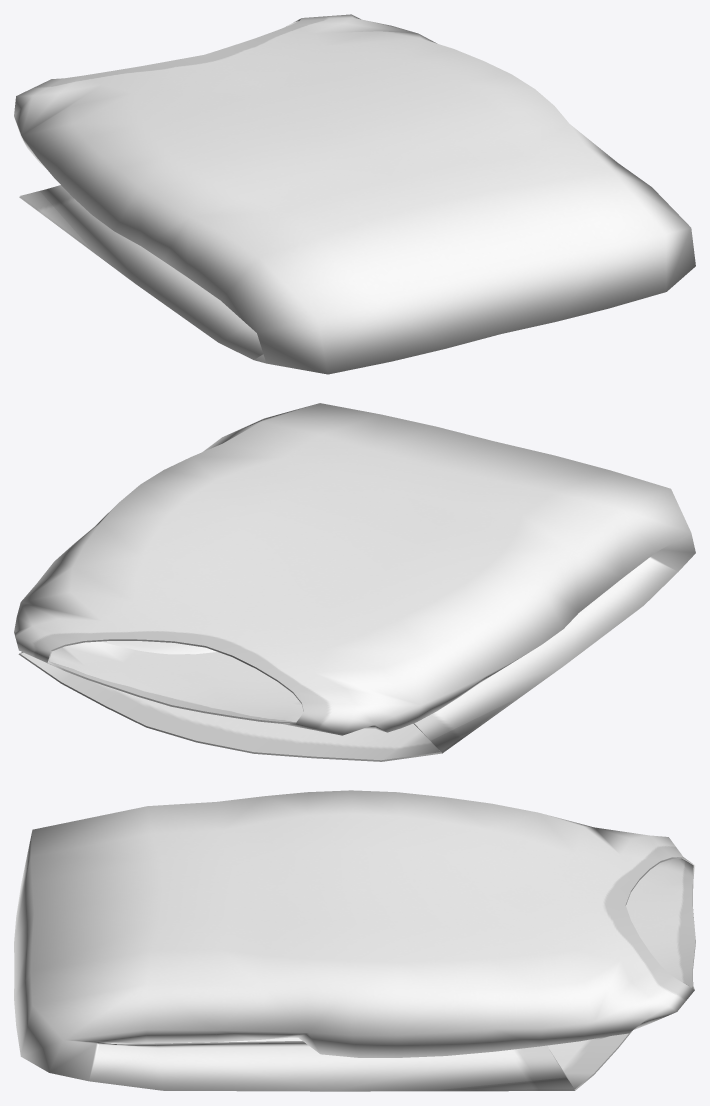
The model's file is TShirt_Folded.FBX.
3 views of the same model, one above another, from view 1: azimuth 30°, elevation 25°; view 2: azimuth 150°, elevation 25°; view 3: azimuth 270°, elevation 25° (orthographic). The views are drawn at different scales.
Visible parts, largest first — view 1: Tshirt_Folded; view 2: Tshirt_Folded; view 3: Tshirt_Folded.
Boxes of the visible parts, x1,y1,x2,y2 form: Tshirt_Folded: (14, 14, 695, 374); Tshirt_Folded: (14, 403, 695, 761); Tshirt_Folded: (14, 790, 695, 1091).
Bounding box in the file's own units: 19.91 × 4.6 × 25.6.
